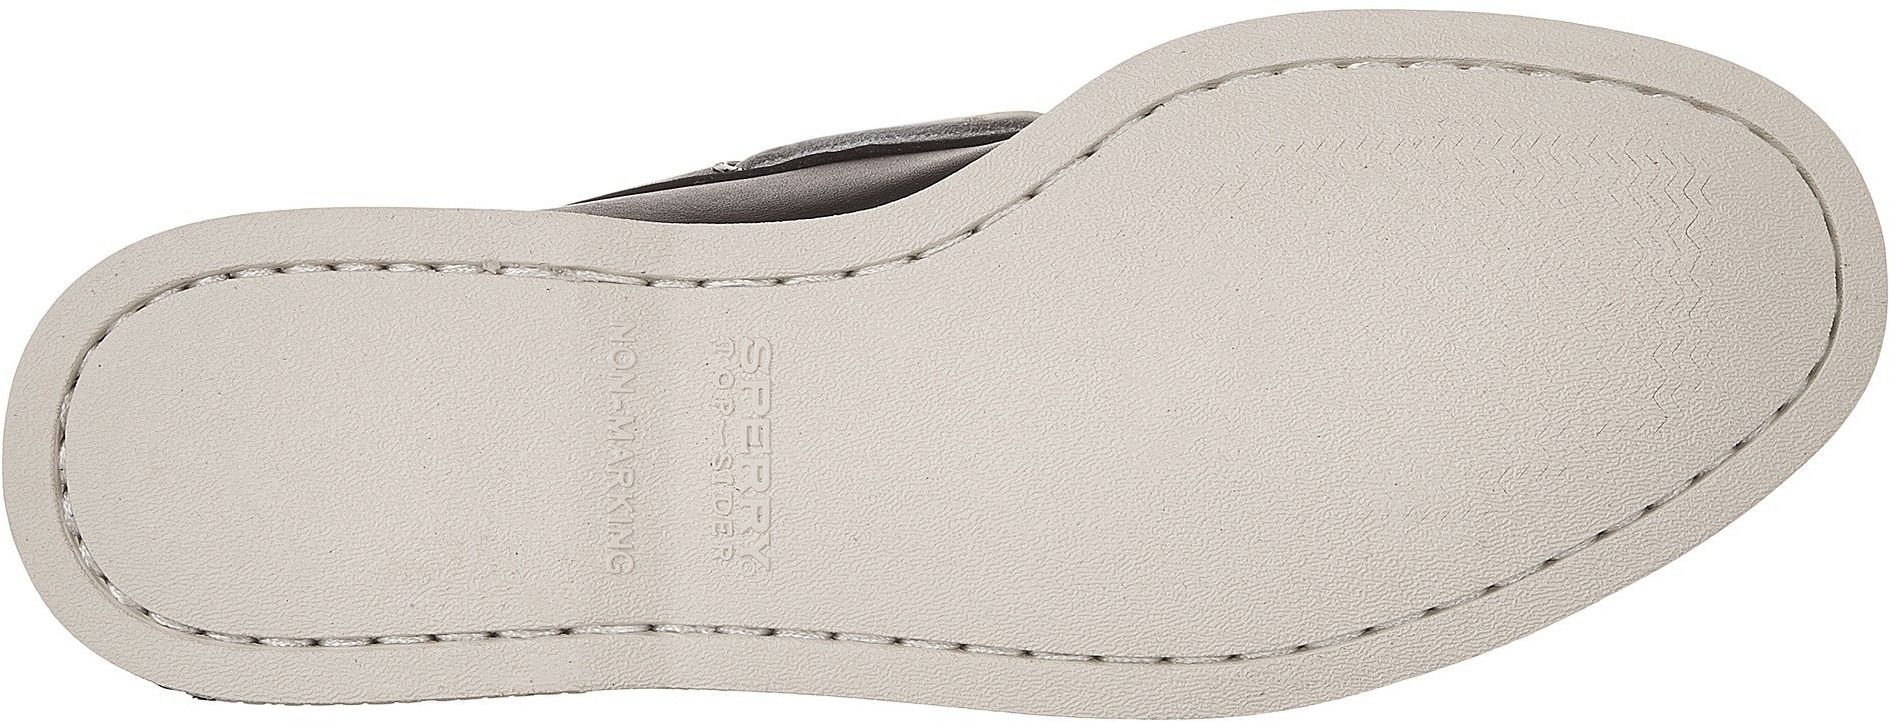text: (708, 334, 779, 581), (586, 311, 650, 585)
